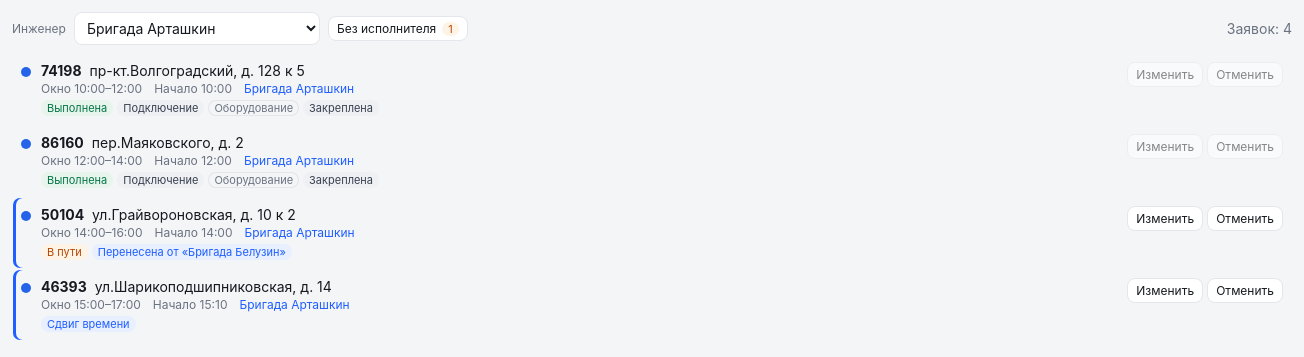
Scenario: RequestsTab › фильтр оставляет страницу бригады открытой и показывает под ней заявки без бригады, пока его не снимут
Click the button "Без исполнителя1".
click(398, 28)  # box [328,16,468,41]
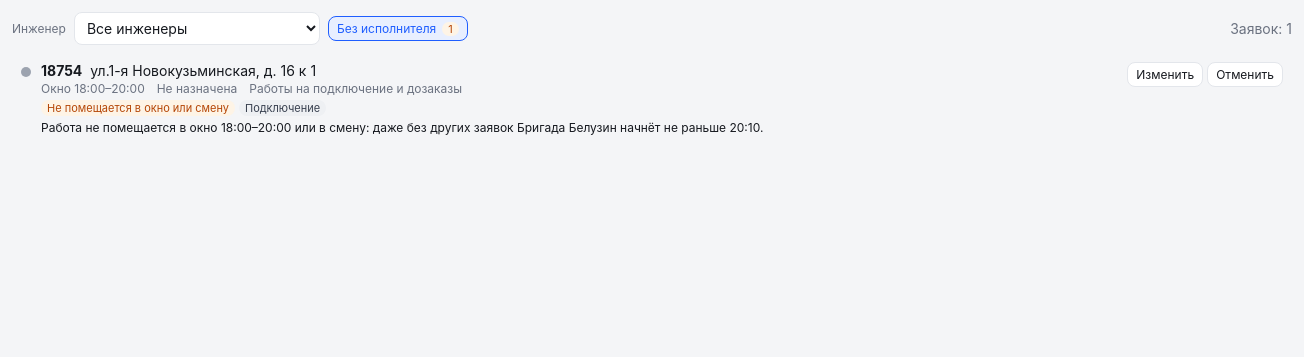
Check: the dropdown labelled "Инженер" shows "Все инженеры", box [74,12,320,45]
Снятый фильтр возвращает маршрут открытой бригады.
Click the button "Без исполнителя1".
click(398, 28)  # box [328,16,468,41]
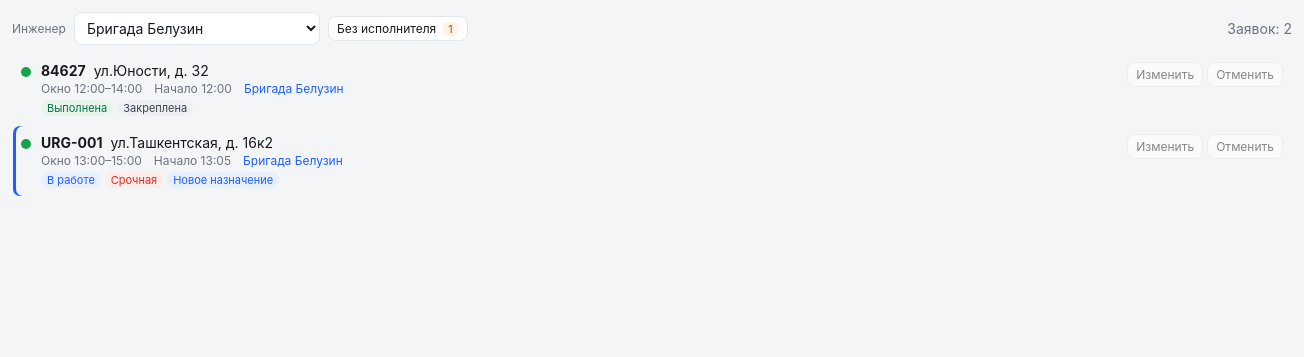
Check: the dropdown labelled "Инженер" shows "Бригада Белузин", box [74,12,320,45]
